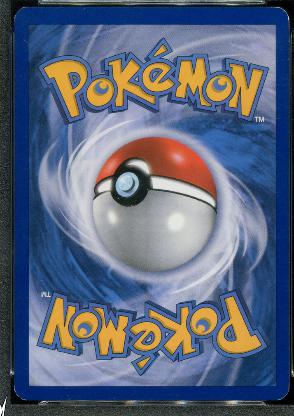Card: (12, 4, 290, 402)
Corner Wear: (268, 6, 289, 24), (13, 384, 31, 402), (274, 383, 288, 401), (13, 5, 26, 22)
Edge Wear: (286, 17, 288, 64)
Scratch: (23, 38, 29, 46), (64, 385, 67, 389)
